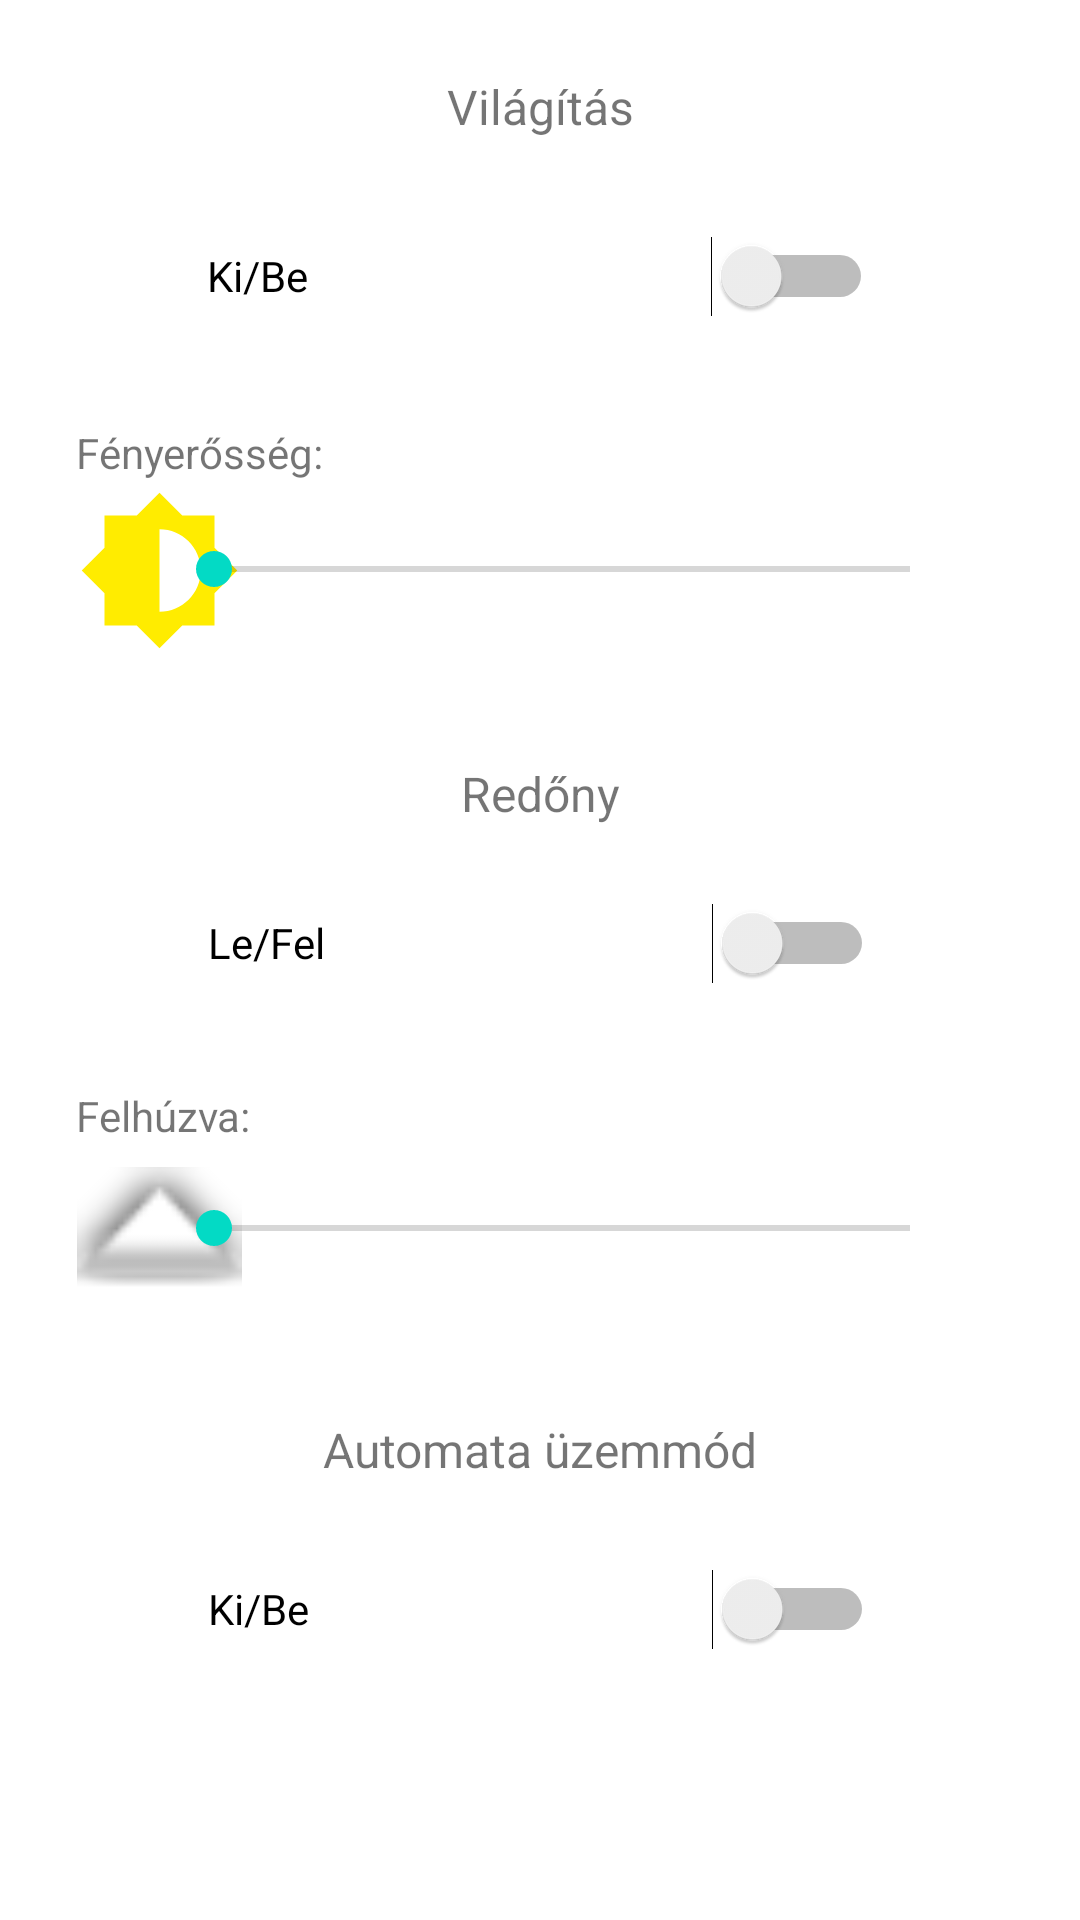

Screen size 1080×1920. Icon name, then its center in pixels as [x,y]:
arrow up float: [159,1227]
